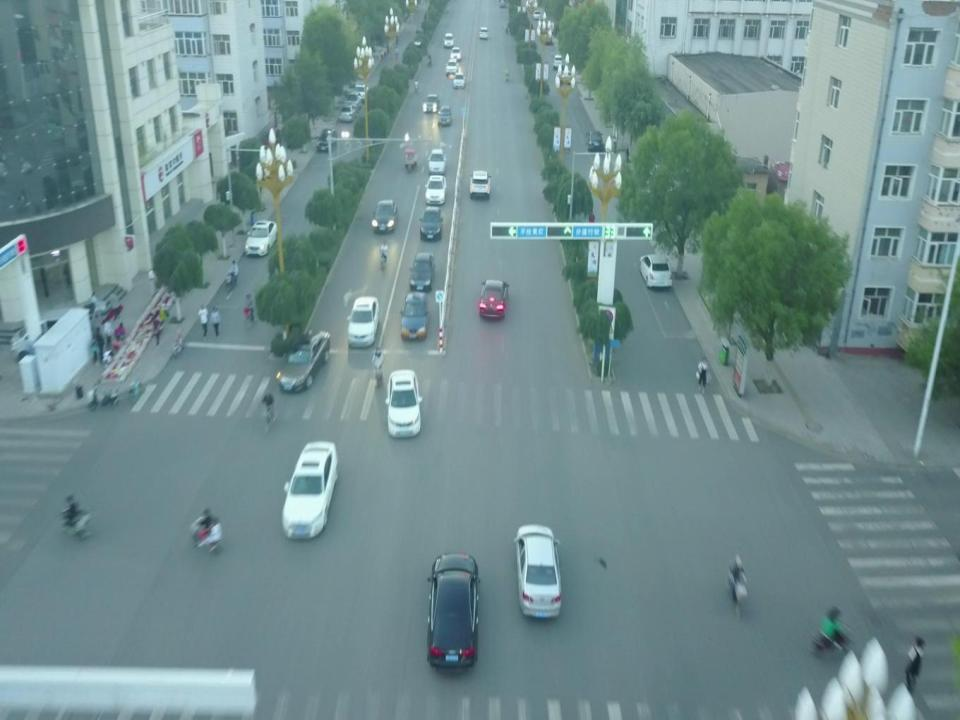car: (429, 554, 479, 670), (281, 442, 337, 538), (515, 524, 561, 618), (277, 330, 331, 391), (385, 368, 421, 437), (347, 296, 378, 346), (243, 219, 277, 259), (401, 292, 428, 340), (639, 253, 674, 289), (480, 280, 507, 318), (421, 206, 443, 242), (373, 200, 397, 232), (425, 173, 447, 204), (470, 169, 492, 200), (316, 129, 336, 154), (429, 148, 446, 174), (421, 92, 439, 114), (344, 91, 361, 111), (587, 130, 603, 150), (353, 82, 368, 102), (339, 104, 355, 122), (438, 105, 451, 127), (452, 72, 464, 90), (446, 58, 458, 76), (443, 32, 454, 48), (450, 46, 461, 61), (552, 52, 562, 68), (480, 28, 488, 40), (533, 9, 540, 20), (499, 0, 506, 8), (414, 83, 419, 93)
